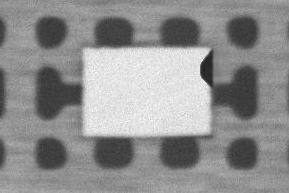DIE_BROKEN: (198, 47, 213, 88)
